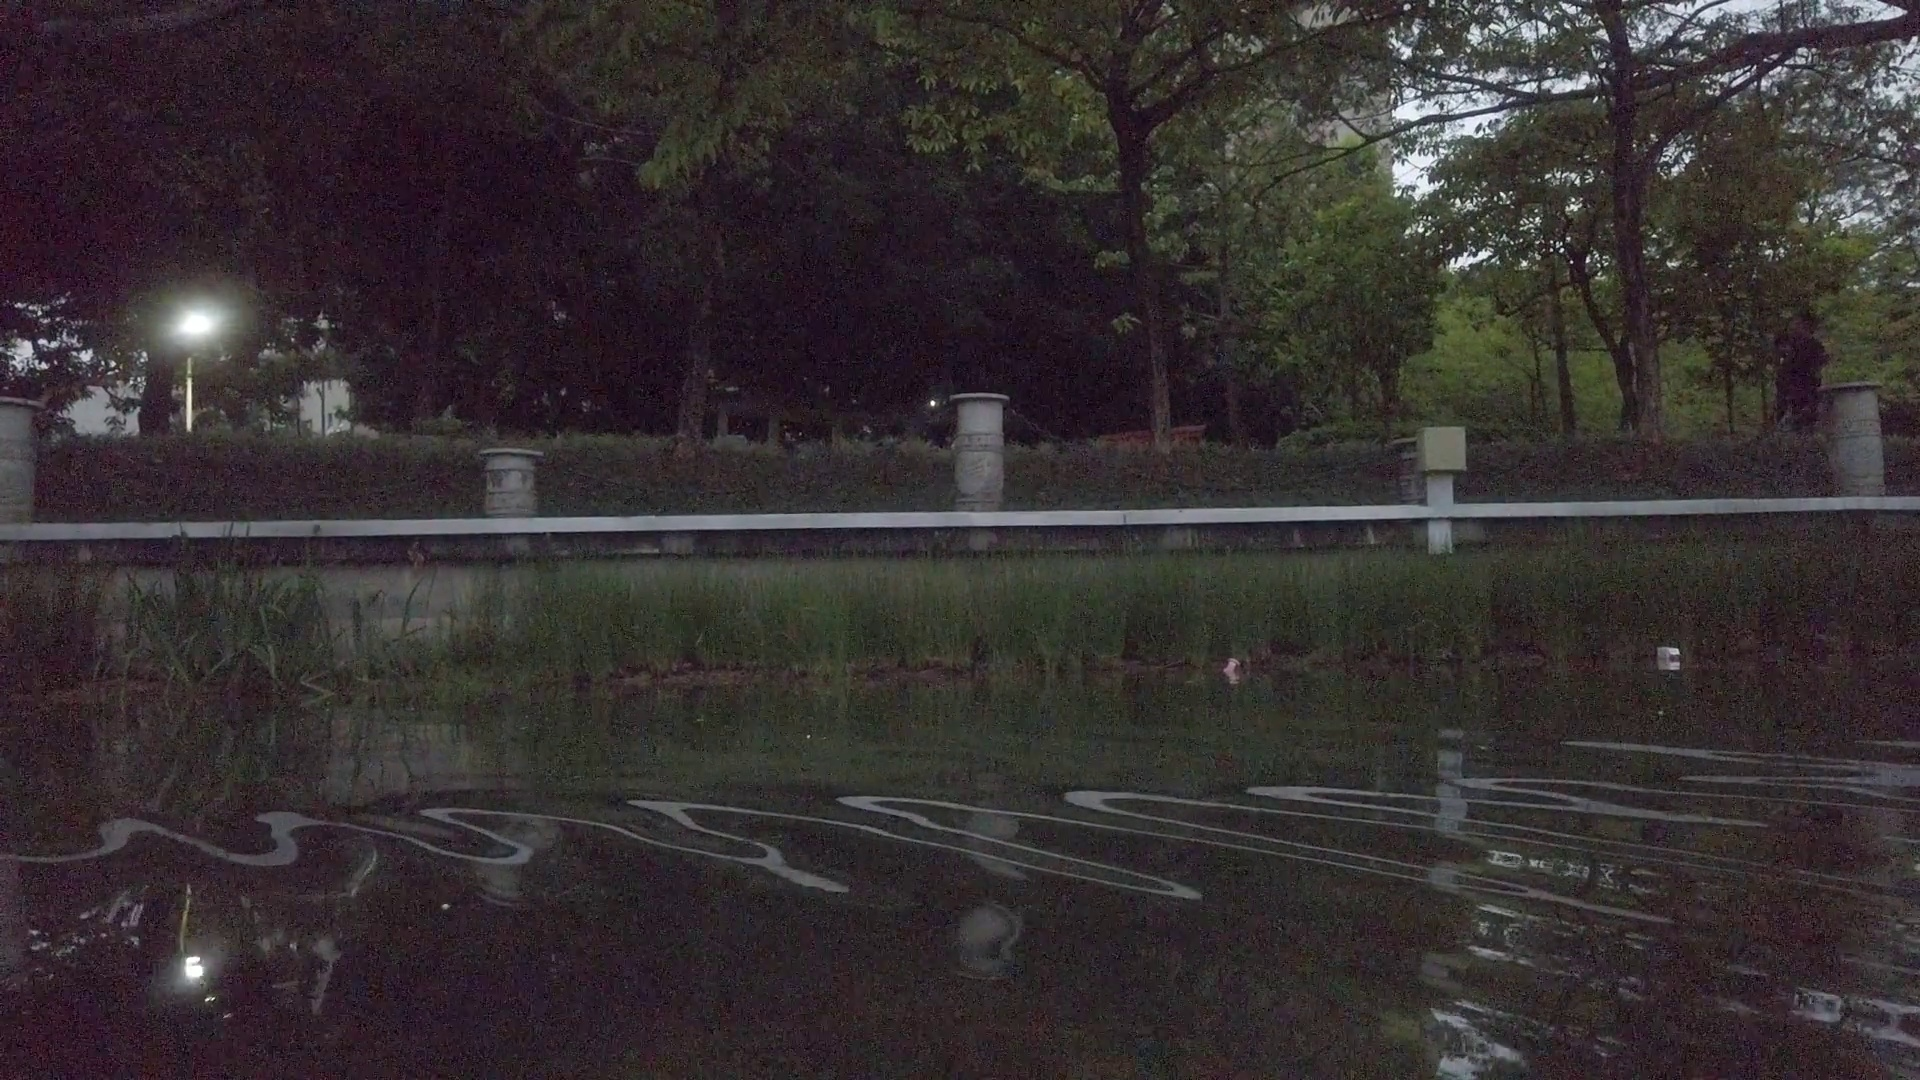bottle: (1222, 659, 1240, 683)
carton: (1655, 645, 1680, 663)
